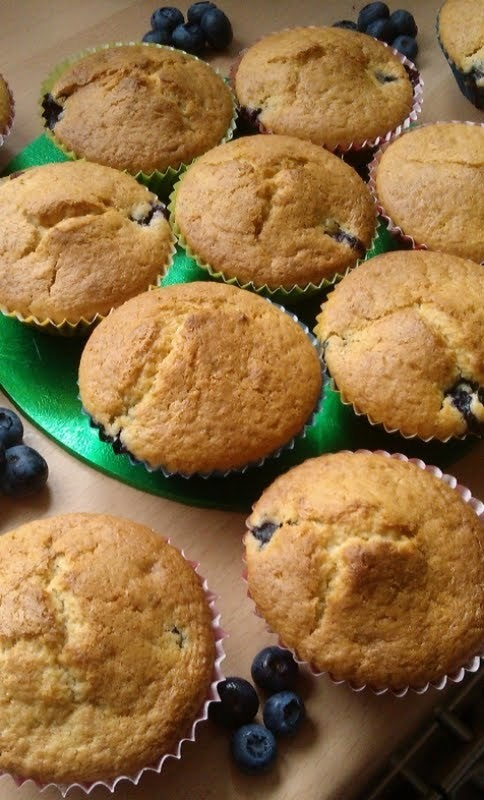background: (0, 1, 366, 599), (157, 401, 365, 800), (37, 0, 365, 141), (0, 114, 38, 621), (0, 89, 13, 185)
